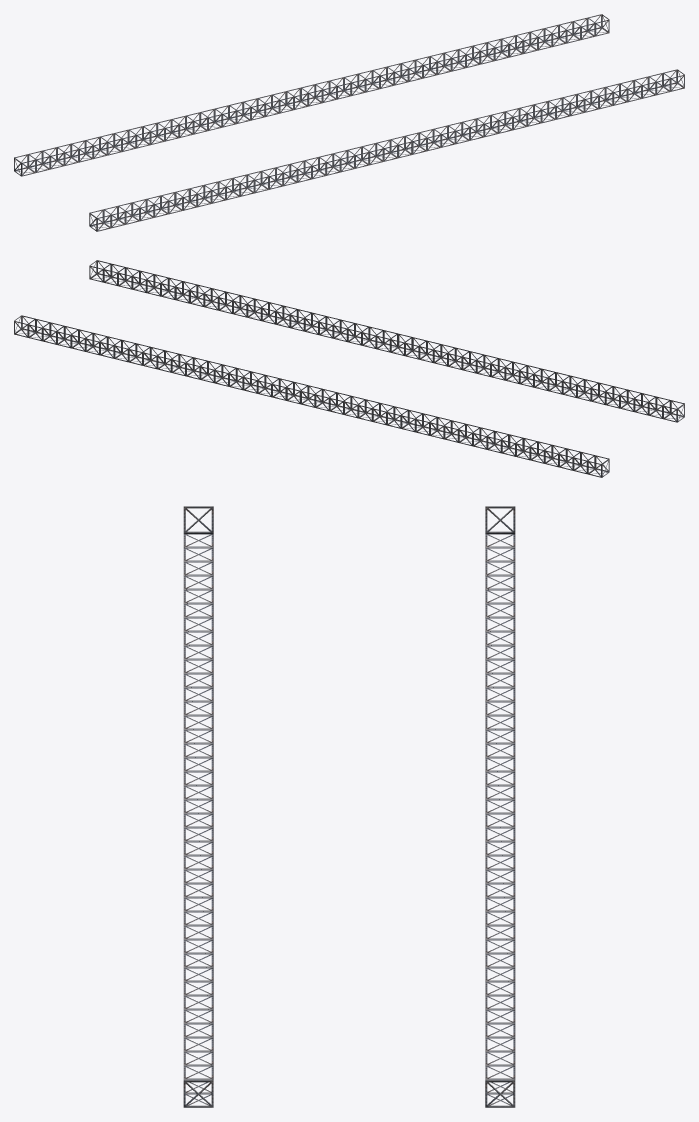
File: dt_med05supports.fbx
3 views of the same model, one above another, from view 1: azimuth 30°, elevation 25°; view 2: azimuth 150°, elevation 25°; view 3: azimuth 270°, elevation 25° (orthographic). The views are drawn at different scales.
Visible parts, largest first — view 1: mesh_0, mesh_1; view 2: mesh_1, mesh_0; view 3: mesh_1, mesh_0.
Boxes of the visible parts, left/top/right/bottom form: mesh_0: left=14, top=14, right=609, bottom=176; mesh_1: left=89, top=69, right=684, bottom=231; mesh_1: left=89, top=260, right=684, bottom=422; mesh_0: left=14, top=315, right=609, bottom=477; mesh_1: left=183, top=506, right=213, bottom=1107; mesh_0: left=485, top=506, right=515, bottom=1107.
Bounding box in the file's own units: 1800 × 40 × 440.
Materials: 1 (1 with a texture image).
